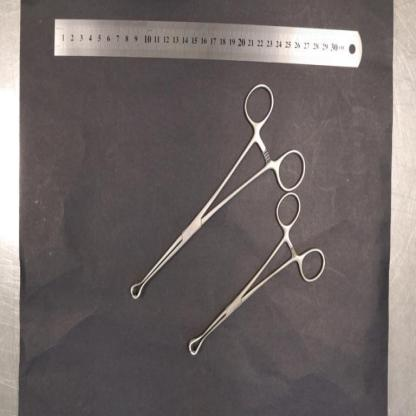8 Babcock Tissue Forceps: (130, 82, 307, 301)
Babcock Tissue Forceps: (188, 194, 327, 358)
